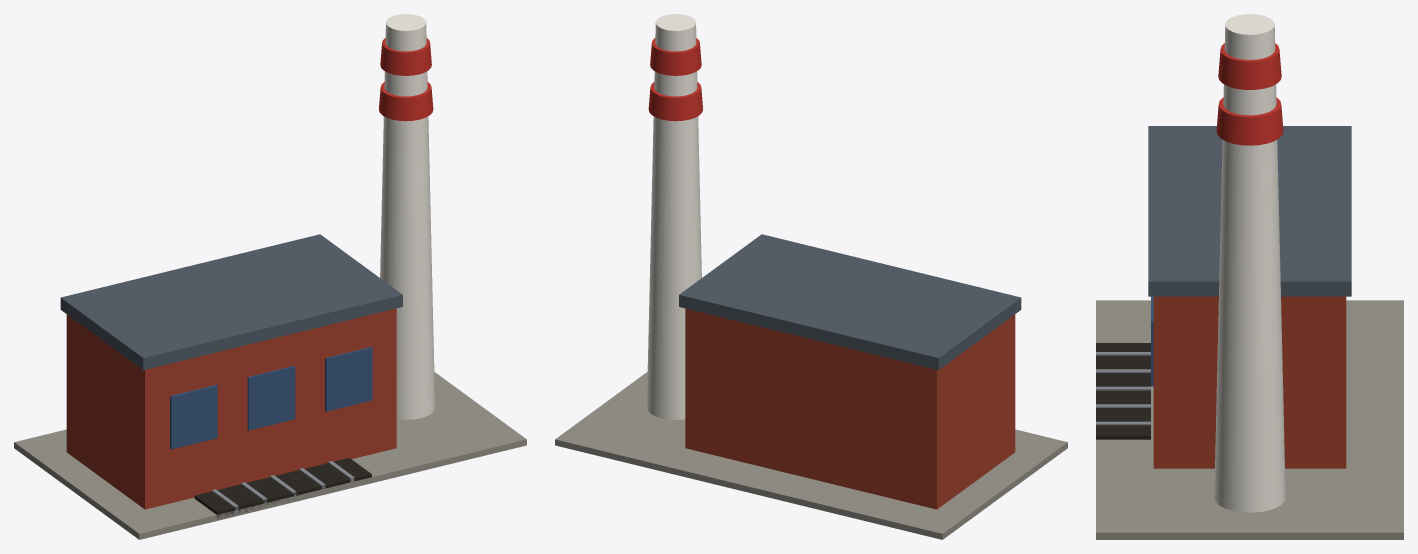
File: power-station.glb
3 views of the same model, side by side, from view 1: azimuth 30°, elevation 25°; view 2: azimuth 150°, elevation 25°; view 3: azimuth 270°, elevation 25° (orthographic). The views are drawn at different scales.
Visible parts, largest first — view 1: brick, slate, white, stone, glass, black, red, steel; view 2: brick, slate, stone, white, red; view 3: stone, white, slate, brick, black, red, steel.
Part boxes in pixels (left/top/right/bottom): brick: left=66, top=308, right=396, bottom=509; slate: left=60, top=234, right=402, bottom=370; white: left=380, top=14, right=435, bottom=419; stone: left=14, top=372, right=526, bottom=539; glass: left=170, top=347, right=372, bottom=449; black: left=194, top=458, right=371, bottom=519; red: left=379, top=38, right=433, bottom=121; steel: left=212, top=461, right=354, bottom=515; brick: left=685, top=308, right=1015, bottom=509; slate: left=679, top=234, right=1021, bottom=370; stone: left=555, top=372, right=1067, bottom=539; white: left=646, top=14, right=701, bottom=419; red: left=648, top=38, right=702, bottom=121; stone: left=1096, top=300, right=1403, bottom=539; white: left=1214, top=14, right=1285, bottom=512; slate: left=1148, top=126, right=1351, bottom=296; brick: left=1153, top=296, right=1346, bottom=468; black: left=1096, top=343, right=1150, bottom=439; red: left=1216, top=43, right=1283, bottom=145; steel: left=1096, top=352, right=1150, bottom=425.
Size of the model in its own units: 200 by 193 by 112.
